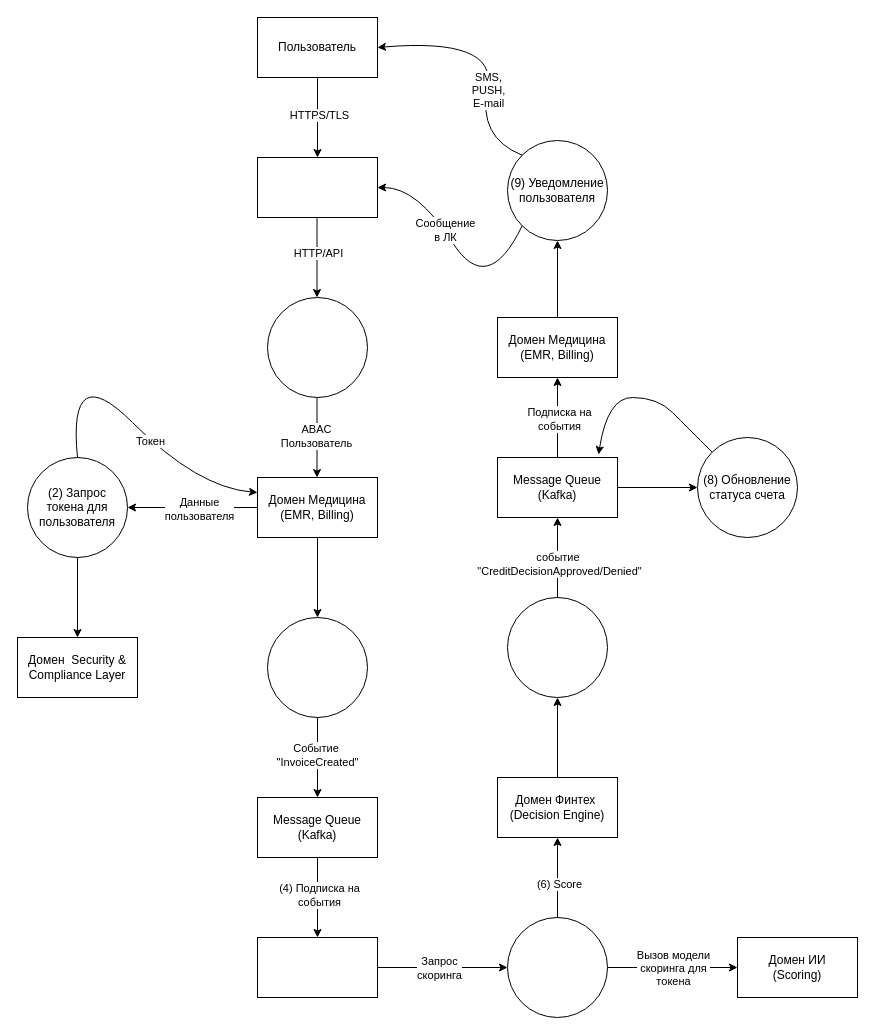
Image size: 875x1035. Some labels were removed from this diagram. The shapes that lost their labels are listed below. From the top down, each one's box as (x1, y1, x2, y2) in pixels, then its label:
(256, 156, 378, 218): Портал
(266, 296, 368, 398): (1) Оплата в рассрочку
(266, 616, 368, 718): (3) Выставление счета
(506, 596, 608, 698): (7) Решение о предоставлении кредита
(256, 936, 378, 998): Домен Финтех (EMR, Billing)
(506, 916, 608, 1018): (5) Запрос скоринга
